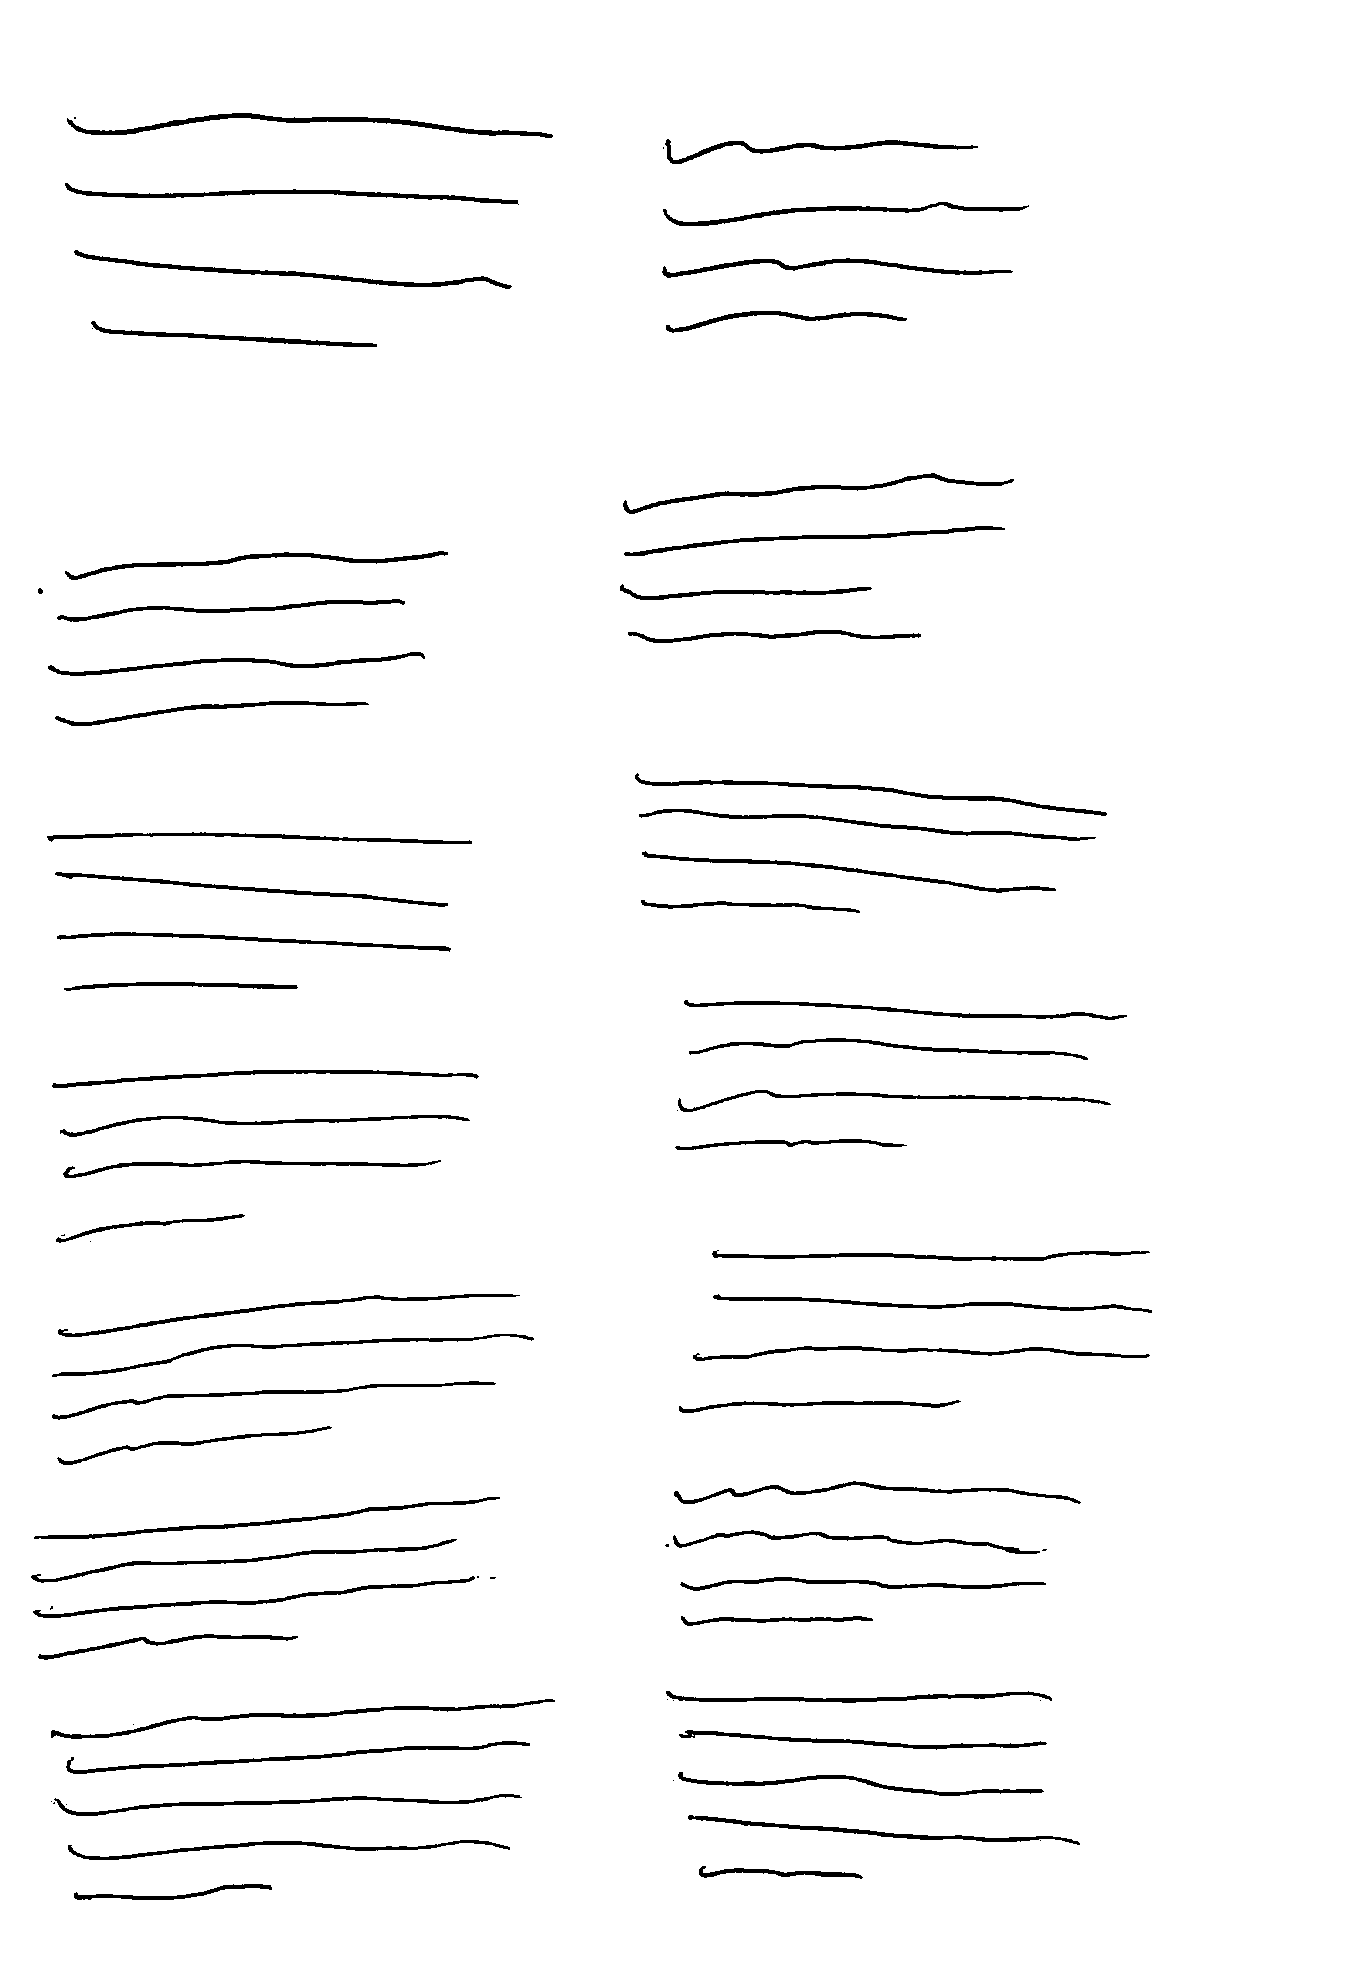Paragraph: (52, 102, 560, 356), (46, 1695, 560, 1906), (49, 1288, 538, 1465), (661, 1687, 1081, 1880), (677, 1248, 1155, 1417), (27, 1492, 501, 1662), (656, 132, 1031, 339), (52, 1067, 480, 1245), (45, 547, 450, 726), (631, 768, 1109, 918), (671, 997, 1127, 1151), (43, 830, 474, 991), (616, 472, 1015, 643), (667, 1481, 1084, 1628)
